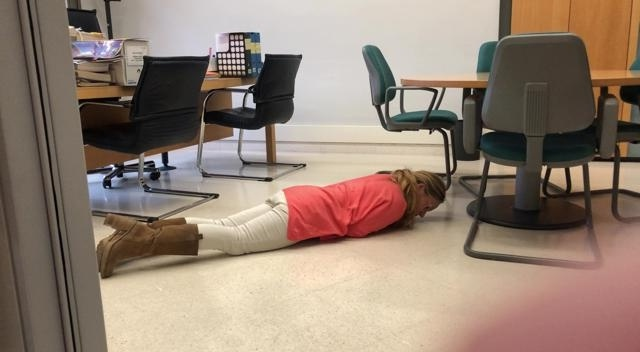fall: (92, 159, 448, 276)
